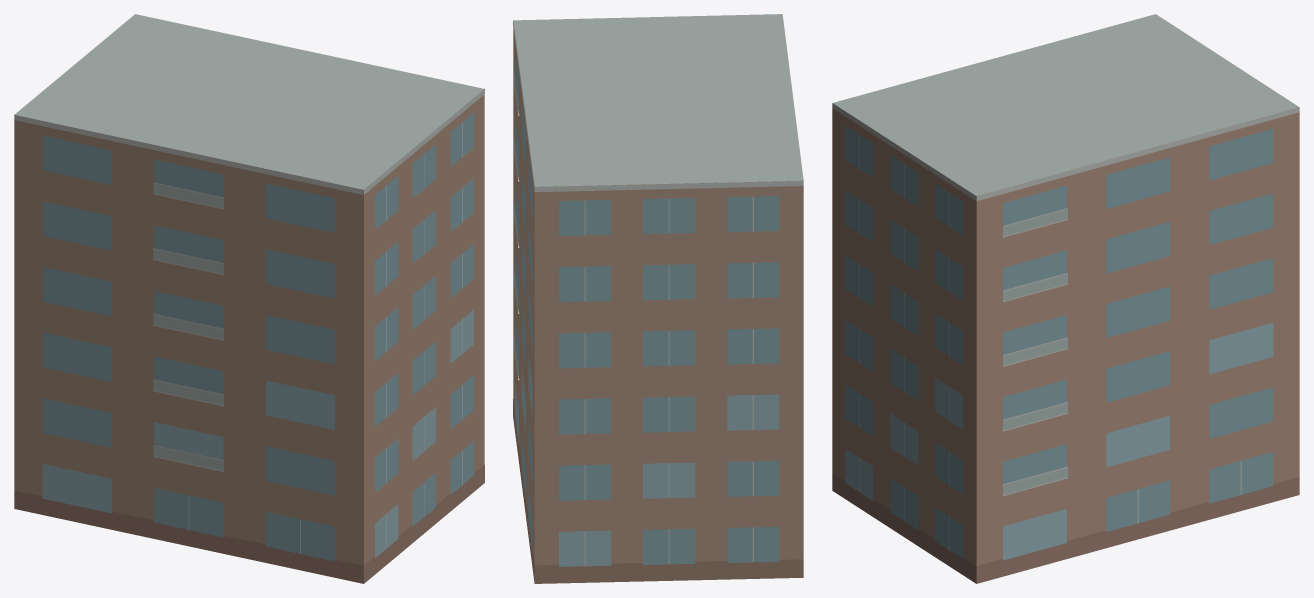
File: survey-upis-32722894.glb
The picture shows the model from 3 angles, left to right: view 1: azimuth 30°, elevation 25°; view 2: azimuth 150°, elevation 25°; view 3: azimuth 270°, elevation 25°; orthographic projection. The views are drawn at different scales.
Visible parts, largest first — view 1: survey-upis-32722894.tmp; view 2: survey-upis-32722894.tmp; view 3: survey-upis-32722894.tmp.
Part boxes in pixels (left/top/right/bottom): survey-upis-32722894.tmp: left=14, top=14, right=484, bottom=583; survey-upis-32722894.tmp: left=513, top=14, right=803, bottom=583; survey-upis-32722894.tmp: left=832, top=14, right=1299, bottom=583.
Size of the model in its own units: 18.45 by 18.3 by 19.99.
